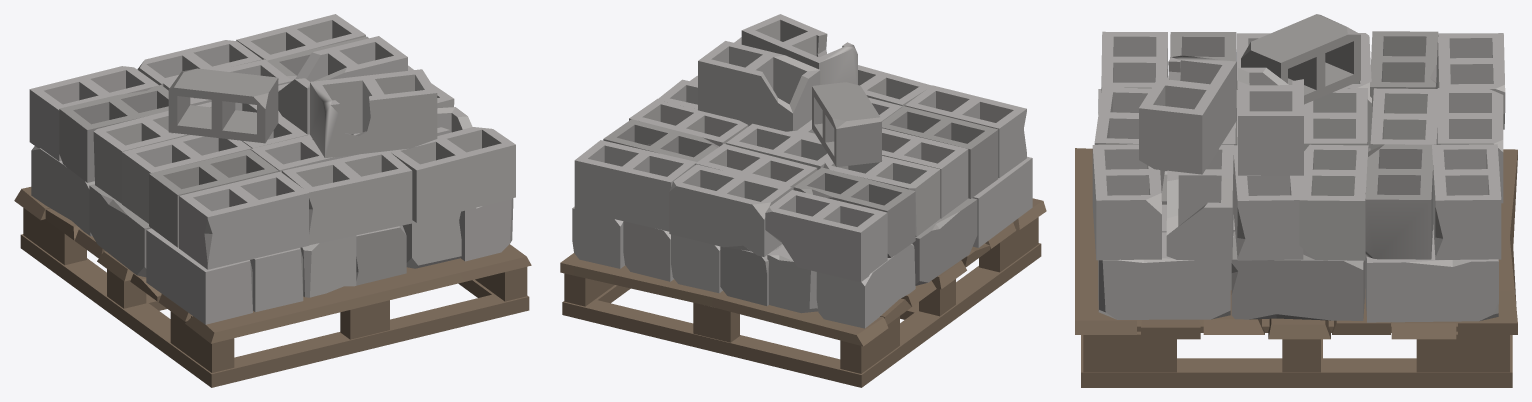
The model's file is Construction_1.fbx.
The picture shows the model from 3 angles, left to right: view 1: azimuth 30°, elevation 25°; view 2: azimuth 150°, elevation 25°; view 3: azimuth 270°, elevation 25°; orthographic projection. The views are drawn at different scales.
Parts seen in each view (by area): view 1: SM_Prop_Construction_Blocks_02; view 2: SM_Prop_Construction_Blocks_02; view 3: SM_Prop_Construction_Blocks_02.
Boxes of the visible parts, <box> form: SM_Prop_Construction_Blocks_02: <box>14,14,531,387</box>; SM_Prop_Construction_Blocks_02: <box>560,14,1046,387</box>; SM_Prop_Construction_Blocks_02: <box>1075,14,1517,387</box>.
Bounding box in the file's own units: 222 × 138 × 228.
1 material, 1 textured.
